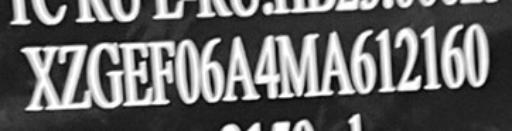letter: (274, 30, 322, 99), (16, 45, 62, 112), (219, 33, 261, 102), (84, 40, 126, 109), (55, 43, 93, 112), (117, 39, 153, 108), (320, 29, 356, 96), (146, 39, 176, 108), (350, 26, 378, 97), (394, 23, 422, 92), (253, 32, 281, 101), (198, 35, 226, 104), (174, 37, 202, 106), (462, 21, 490, 88), (440, 22, 466, 89), (418, 22, 442, 91), (375, 28, 397, 95)
